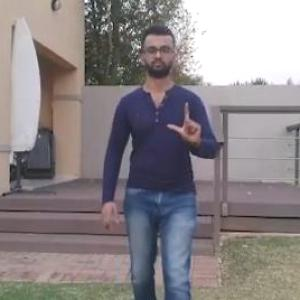land_hand: (161, 88, 207, 146)
